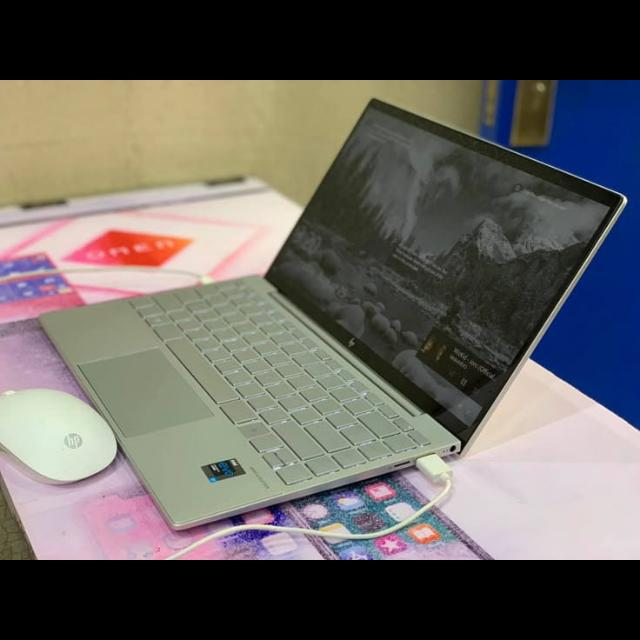laptop: (61, 96, 623, 534)
